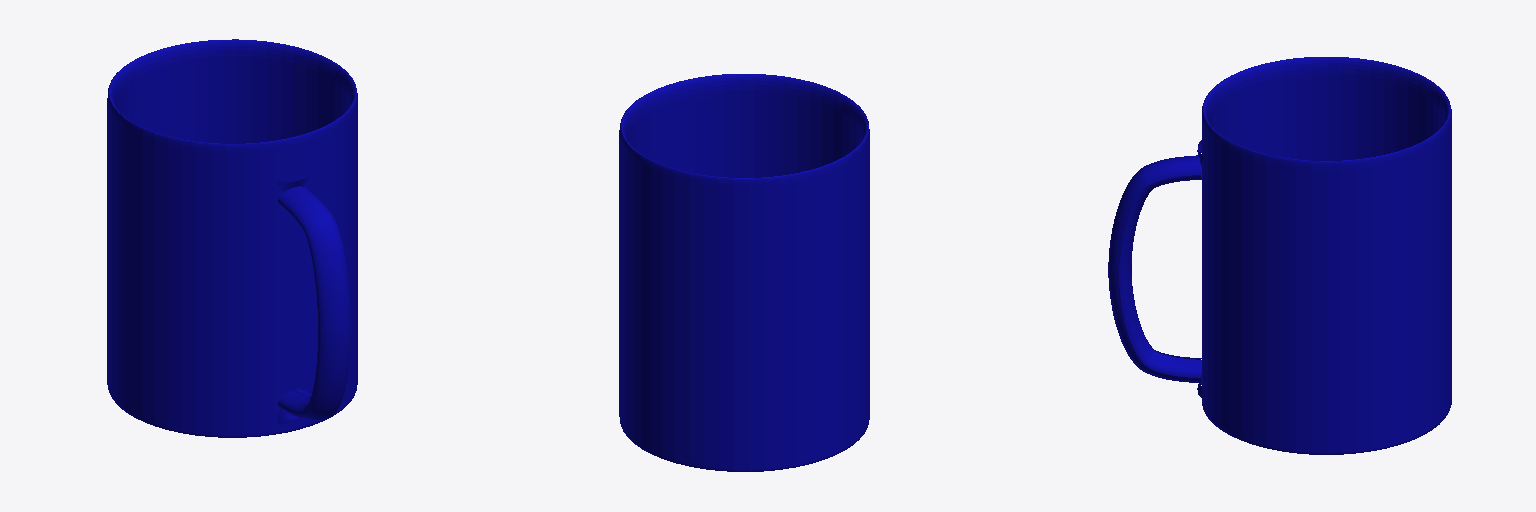
File: cup.obj
3 renders of one model, left to right at view 1: azimuth 30°, elevation 25°; view 2: azimuth 150°, elevation 25°; view 3: azimuth 270°, elevation 25°, orthographic.
Parts seen in each view (by area): view 1: Line01_1; view 2: Line01_1; view 3: Line01_1.
Part boxes in pixels (bbox=[...]): Line01_1: bbox=[107, 39, 357, 437]; Line01_1: bbox=[619, 74, 869, 471]; Line01_1: bbox=[1108, 57, 1451, 454].
Bounding box in the file's own units: 9.31 × 12.07 × 12.76.